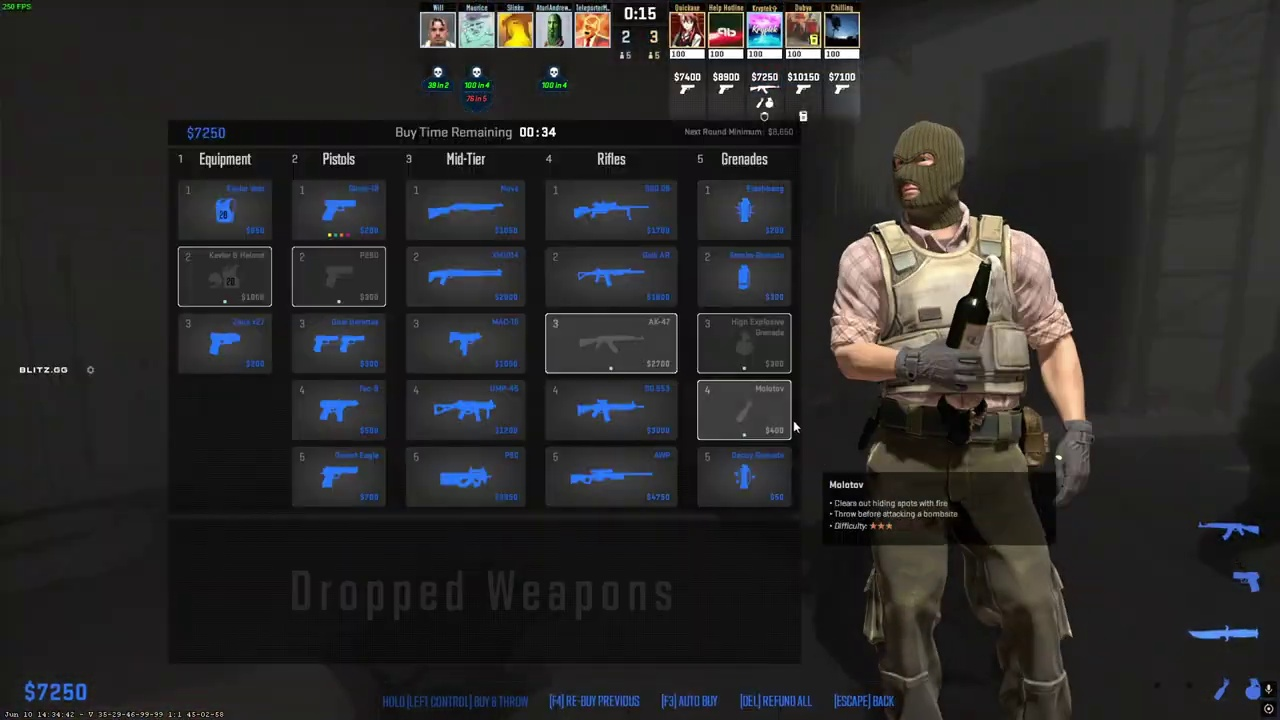Terrorist: (844, 120, 1078, 720)
